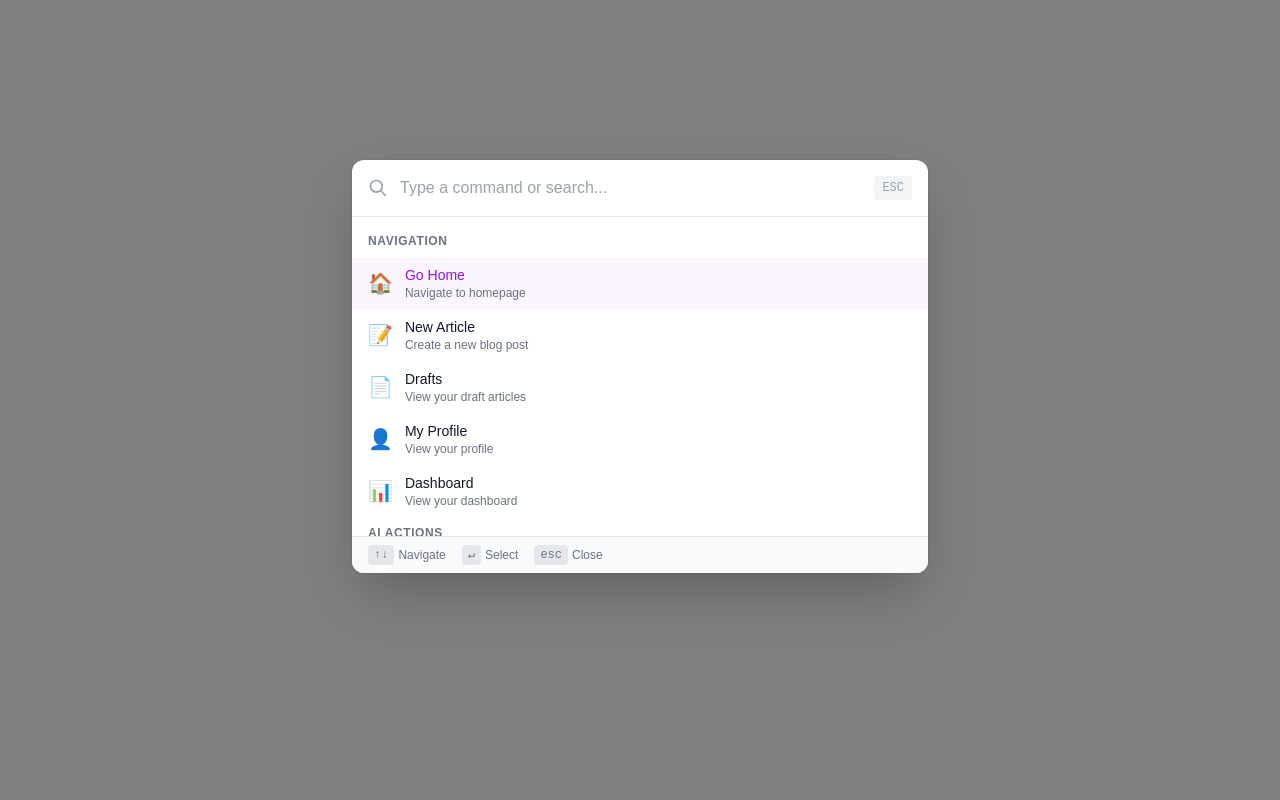
Test: CommandPalette › search filtering › filter is case-insensitive
Type "THEME" into the field with placeholder "Type a command or search..." at [640, 188], box [352,160,928,216]
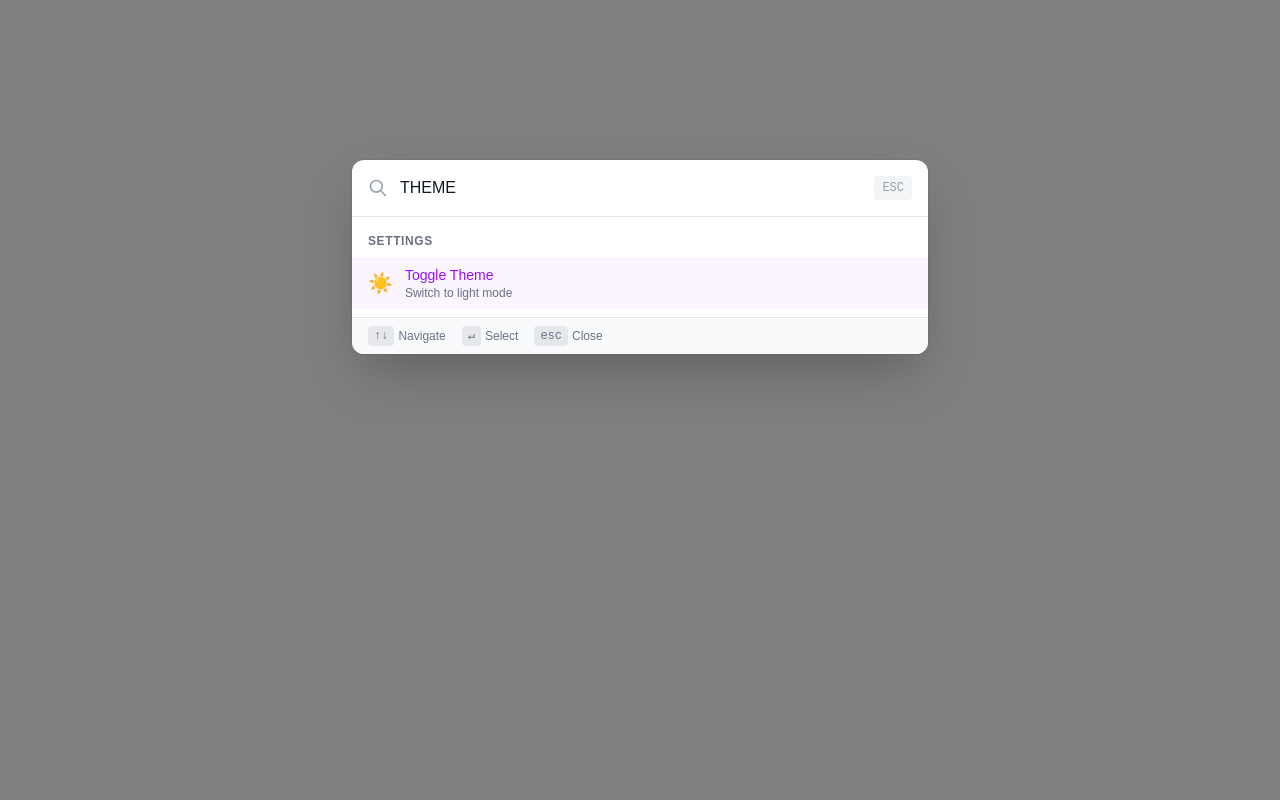
expect the text "Toggle Theme" is shown: met, box [405,267,494,283]
